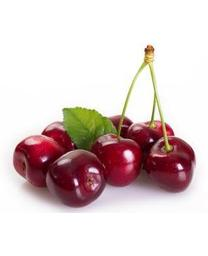cherry: (45, 149, 107, 209), (13, 134, 69, 188), (145, 135, 196, 193), (90, 134, 143, 187), (126, 120, 176, 169), (42, 122, 89, 165)
